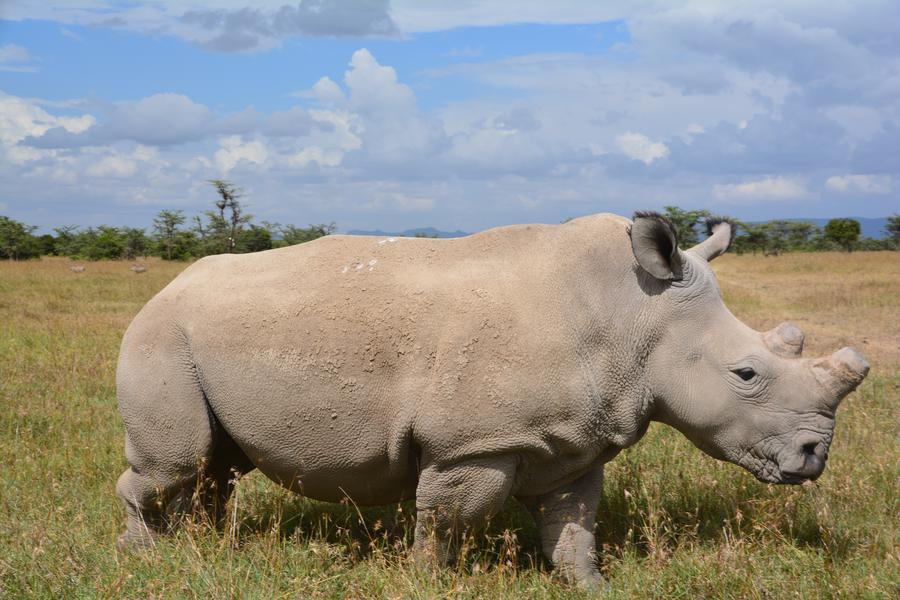rhino: (131, 216, 829, 520)
